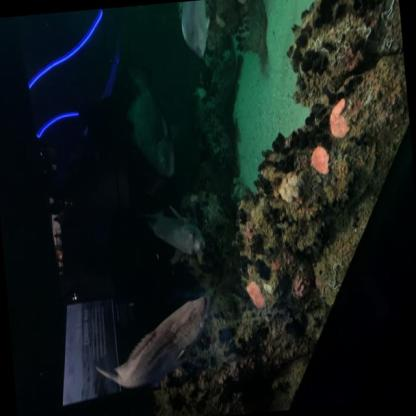fish: (89, 294, 219, 391), (121, 58, 181, 181), (134, 200, 207, 267), (174, 0, 217, 61)
